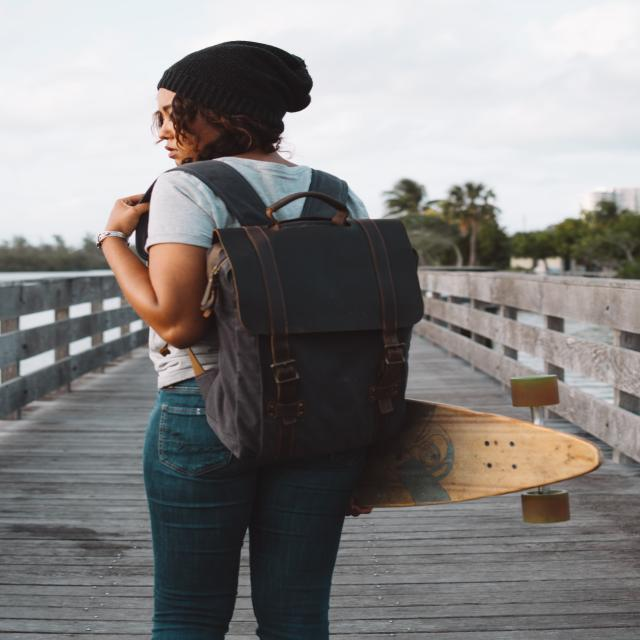backpack: (133, 163, 411, 468)
